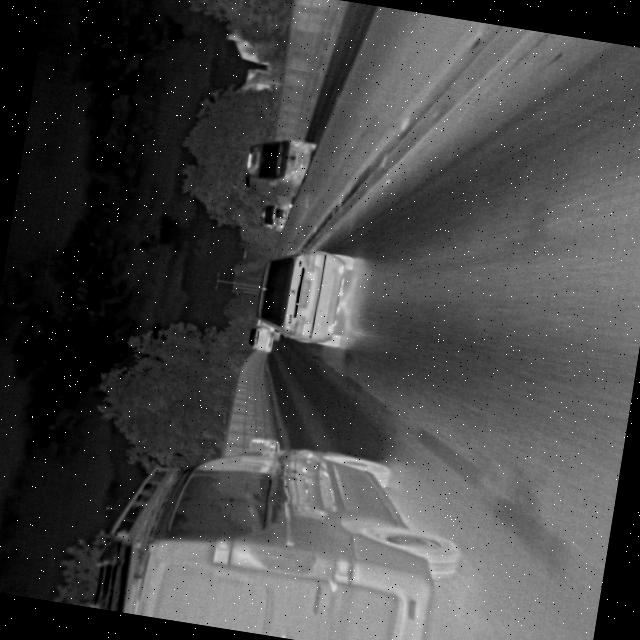Vehicle: (83, 415, 476, 640), (252, 240, 360, 352), (237, 130, 322, 207)
